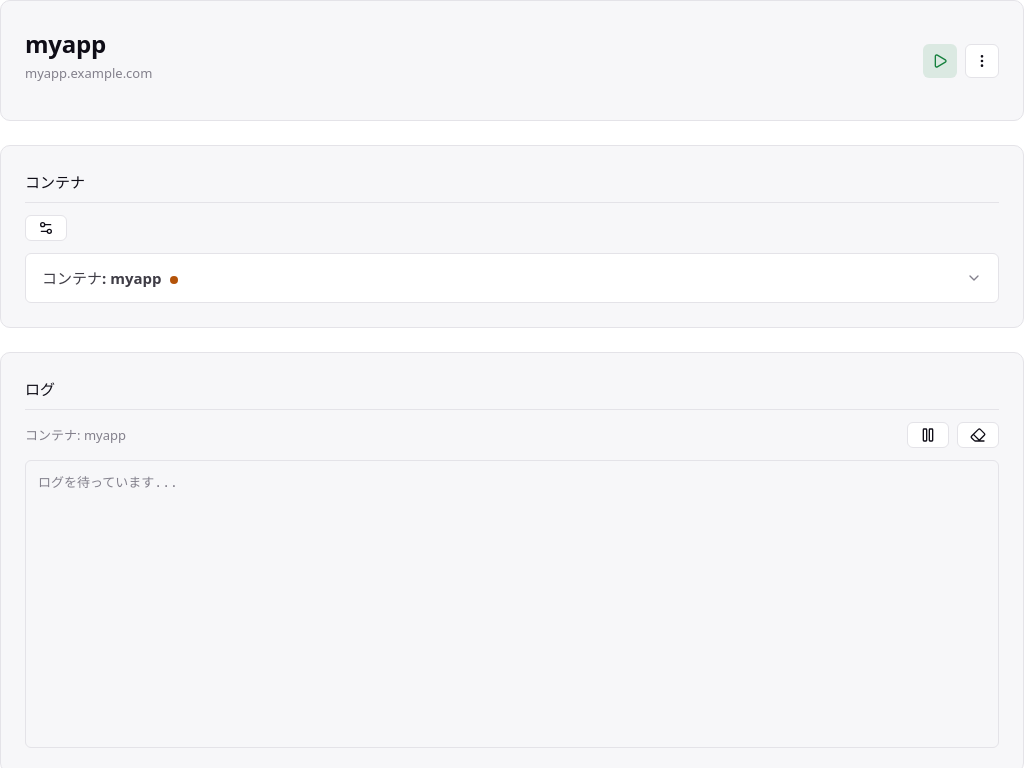
Test: ServiceDetailPage › 起動結果にroute_warningが含まれる場合はアラートを表示する
What coordinates should you click on to do the following:
click the button named "起動"
I would click on:
 (940, 61)
Its box is [923, 44, 957, 78].
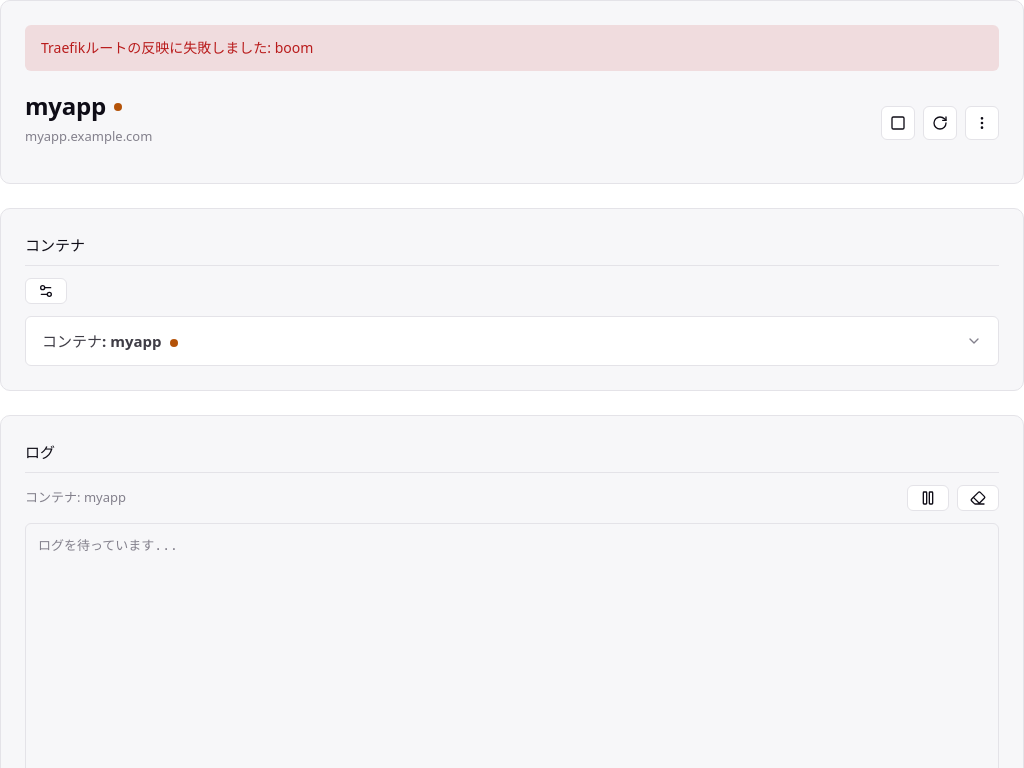
Expected: the text "Traefikルートの反映に失敗しました: boom" is shown, [25, 25, 999, 71]
